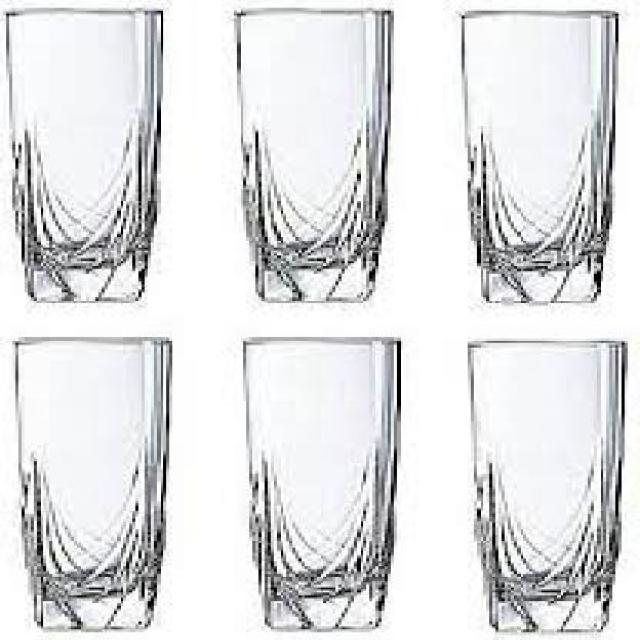kaca: (458, 6, 616, 300), (240, 336, 397, 630), (230, 6, 384, 300), (3, 6, 157, 300), (464, 335, 618, 628), (12, 337, 166, 629)
